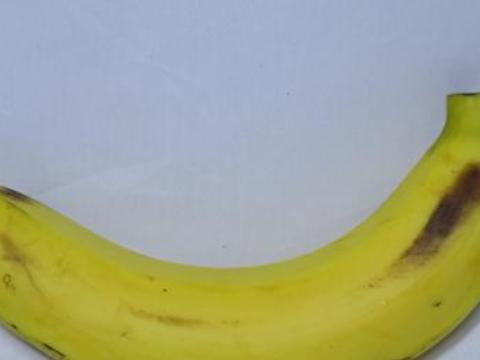freshripe: (0, 73, 479, 359)
